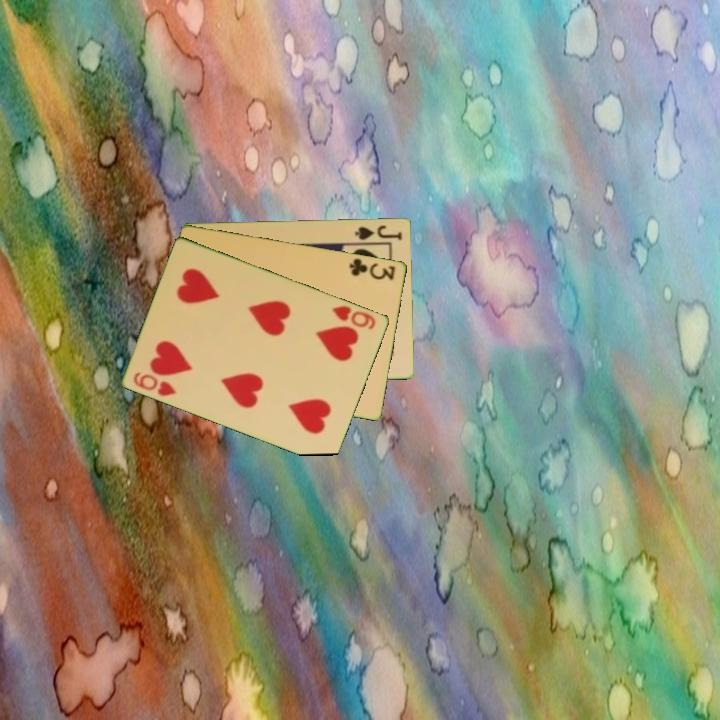3c: (346, 254, 398, 283)
6h: (130, 368, 179, 399), (329, 302, 379, 332)
Js: (352, 221, 405, 243)
